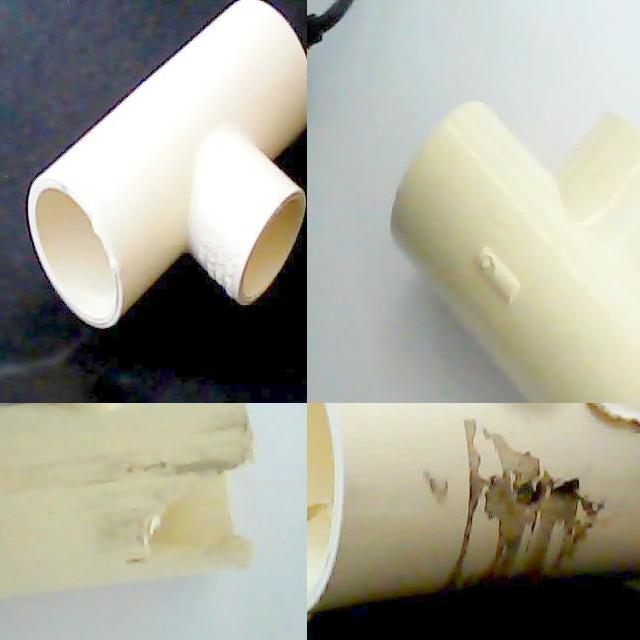Defective: (429, 403, 600, 598), (142, 448, 254, 558), (545, 403, 640, 448), (307, 495, 338, 567)
T Joint: (29, 0, 307, 331), (388, 102, 640, 403)
